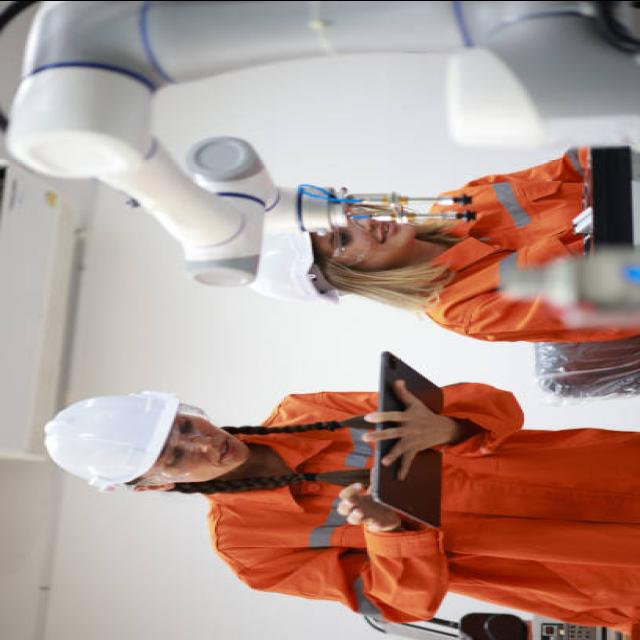Robotic-arm: (4, 1, 640, 295)
